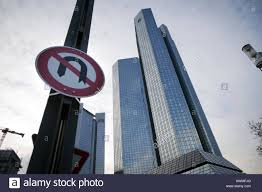No_u_turn: (35, 46, 105, 98)
